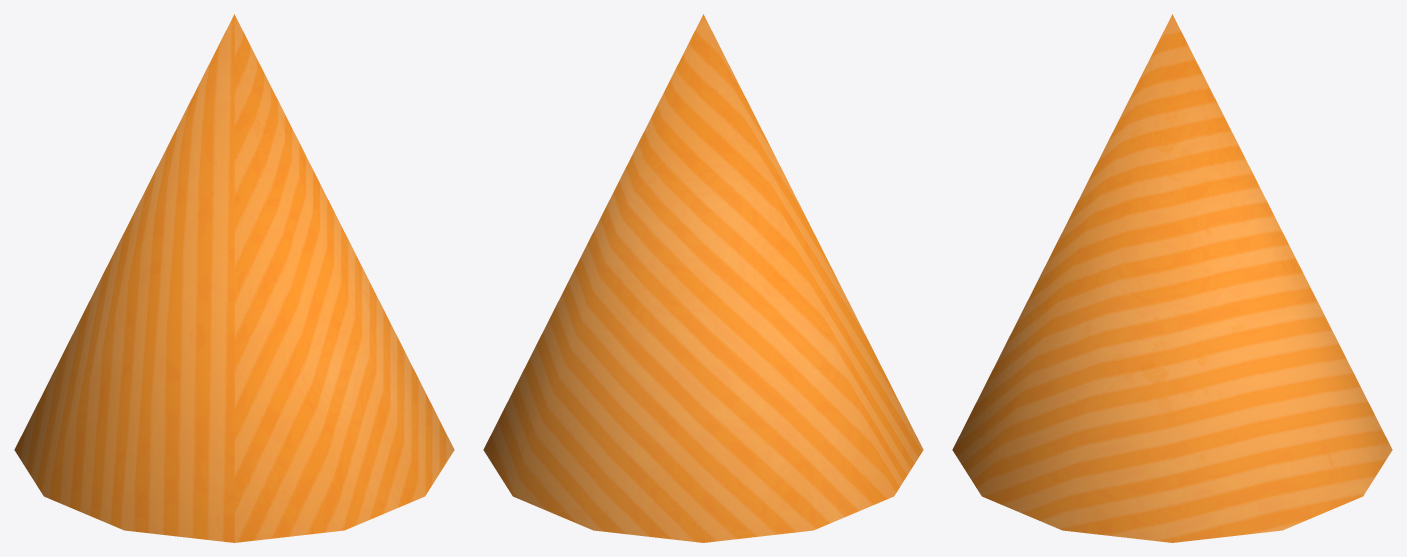
The model's file is partyHatOrange.glb.
3 renders of one model, left to right at view 1: azimuth 30°, elevation 25°; view 2: azimuth 150°, elevation 25°; view 3: azimuth 270°, elevation 25°, orthographic.
Visible parts, largest first — view 1: Hat_PartHatOrange; view 2: Hat_PartHatOrange; view 3: Hat_PartHatOrange.
Boxes of the visible parts, x1,y1,x2,y2 form: Hat_PartHatOrange: (14,14,454,542); Hat_PartHatOrange: (483,14,923,542); Hat_PartHatOrange: (952,14,1392,542).
Size of the model in its own units: 0.8111 by 0.8862 by 0.8111.
Materials: 1 (1 with a texture image).
